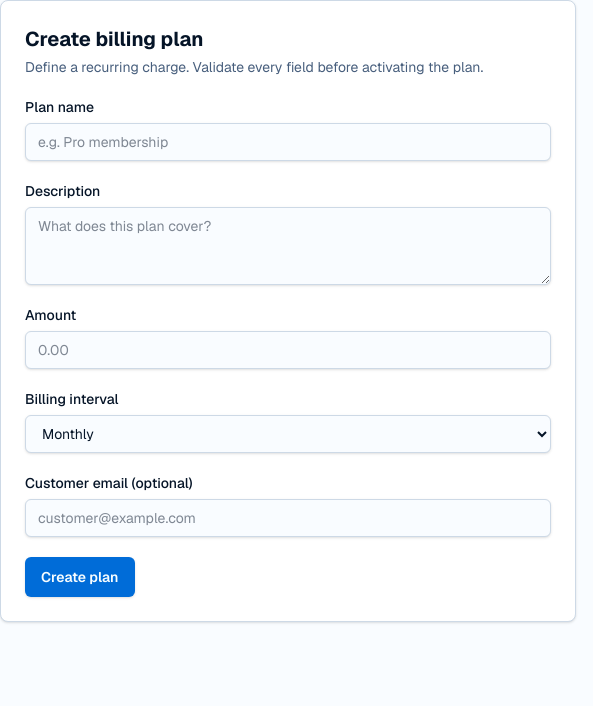
BillingPlanForm › clears a field error once the user corrects it
Click the button "Create plan": x=80, y=577 [25,557,134,597]
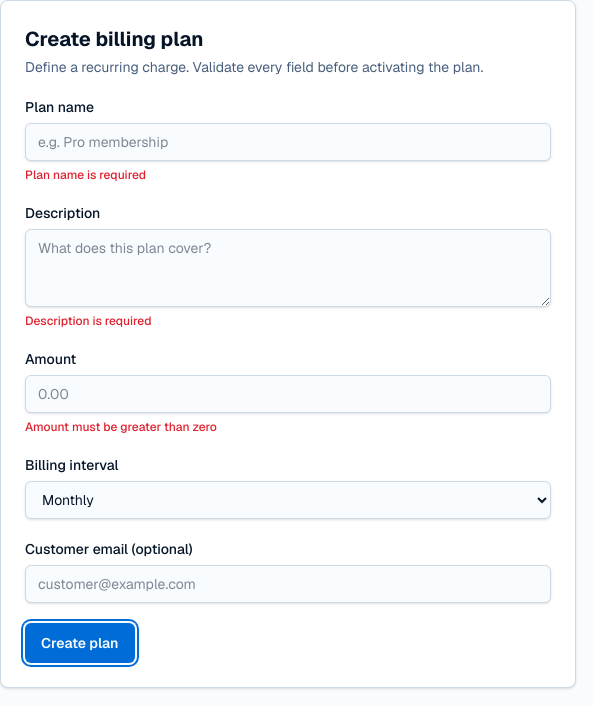
Result: the text "Plan name is required" is shown at [25,167,146,183]
In the field labelled "Plan name": x=288, y=142 [25,123,551,161], type "Pro"
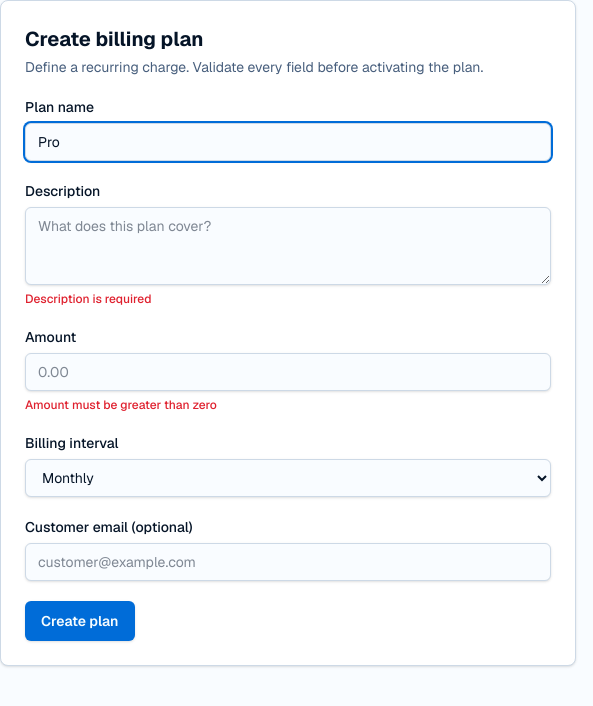
Result: the text "Plan name is required" is gone
